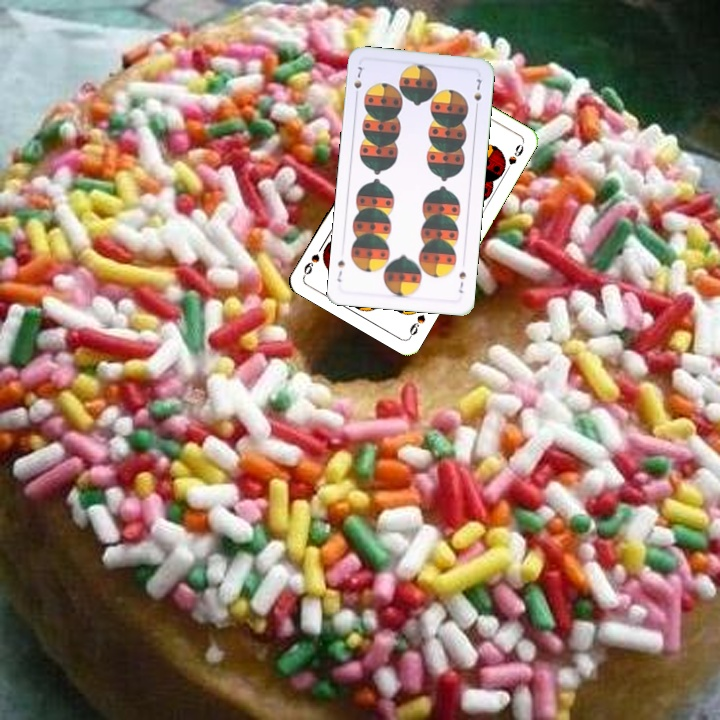S7: (350, 62, 365, 101), (455, 267, 468, 296)
S9: (405, 310, 428, 341)
